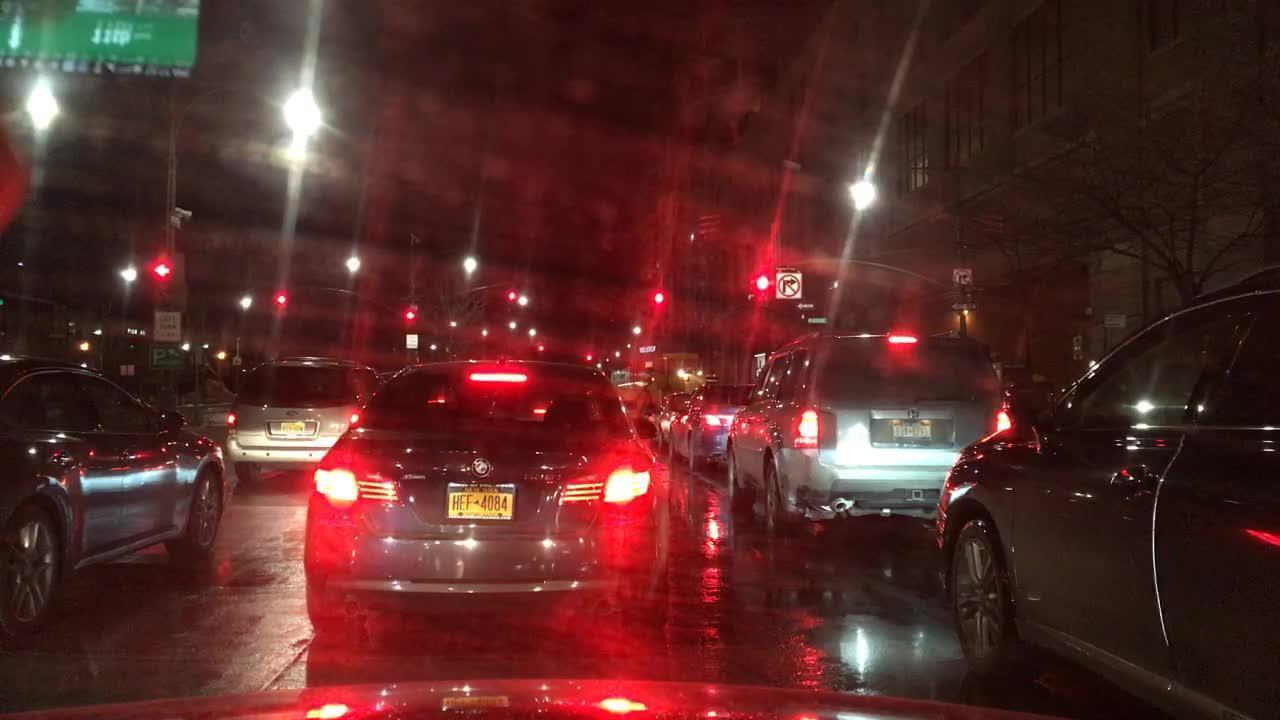bmw: (459, 453, 502, 479)
